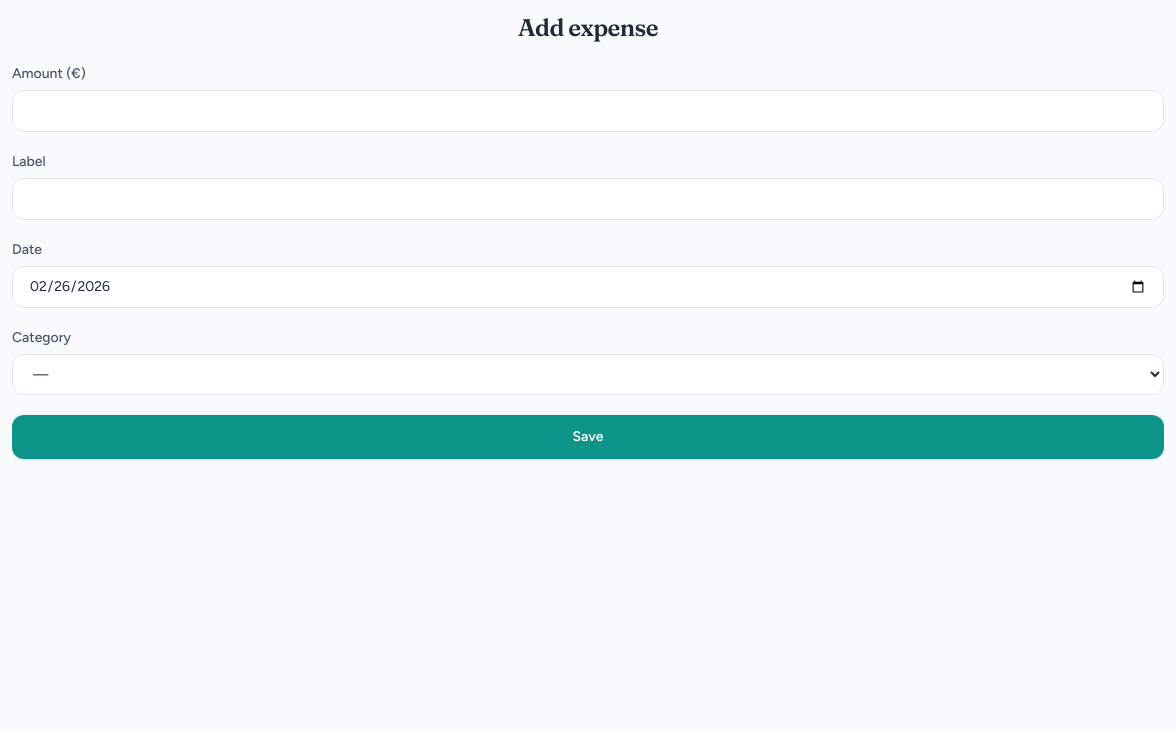
Scenario: ExpenseForm › shows validation errors when submitting empty form
This screenshot has width=1176, height=732.
Click the button "Save".
click(588, 437)  # box [12,415,1164,459]
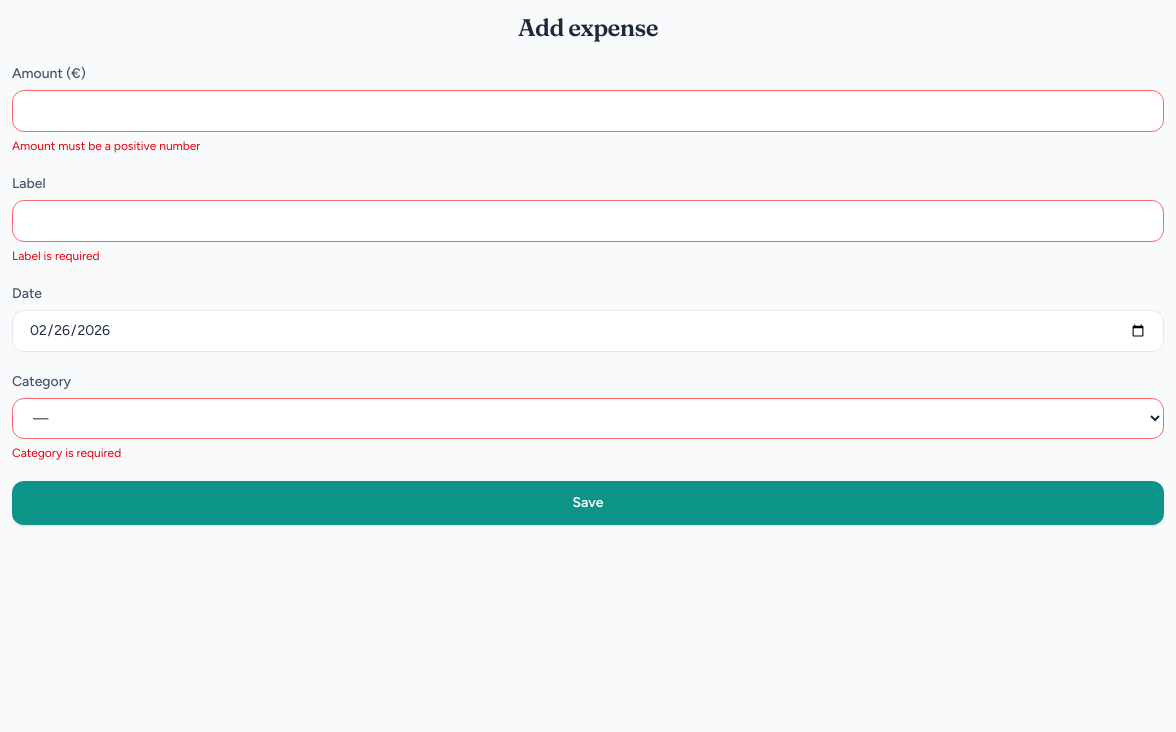
Result: the text "Amount must be a positive number" is shown at [12,139,200,153]
Result: the text "Label is required" is shown at [12,249,100,263]
Result: the text "Category is required" is shown at [12,446,121,460]
